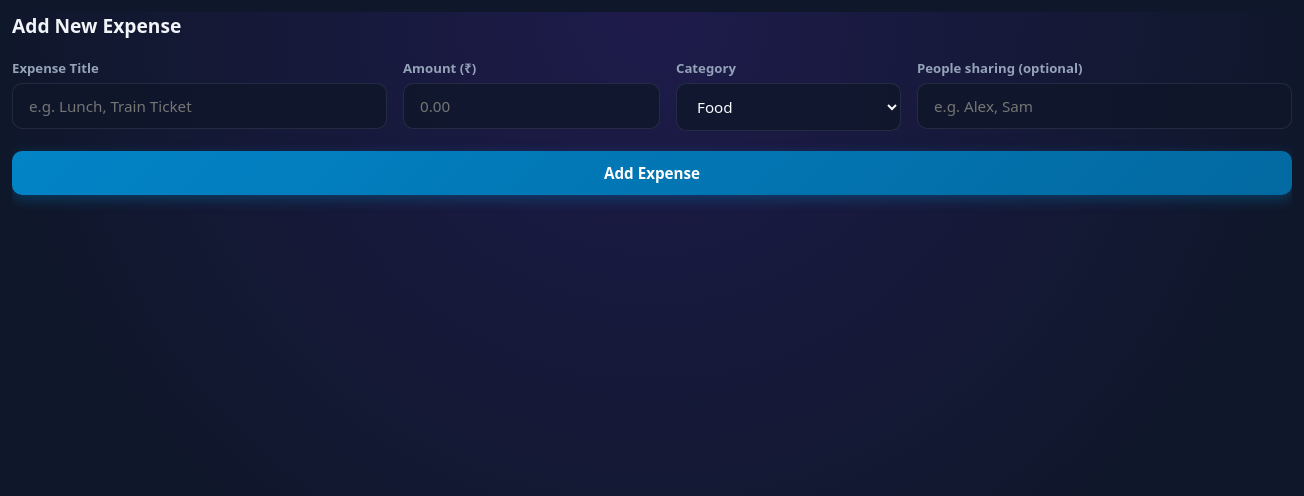
Scenario: Expense Tracker: Component & Integration Suite › ExpenseForm Hand-Written Tests › Hand-written Test 2: rejects an empty title and shows error
The image size is (1304, 496).
Click the button "Add Expense" at (652, 173), box [12,151,1292,195]
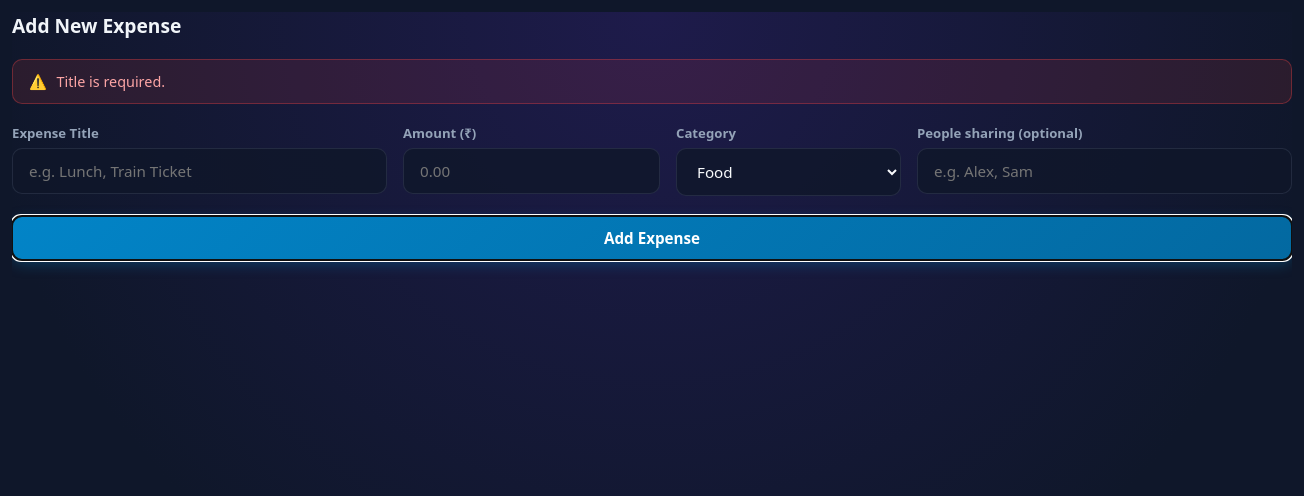
Check: the message "⚠️ Title is required." is shown, box [12,59,1292,104]
Check: the message shows "Title is required", box [57,72,165,91]
